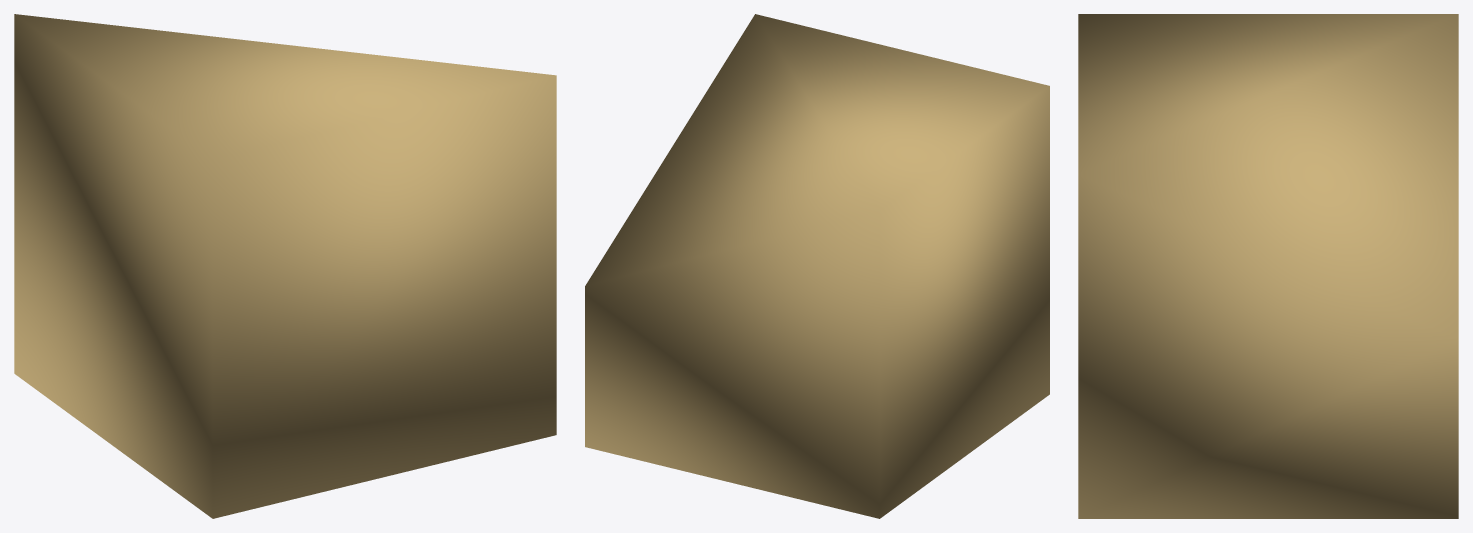
Rendered from asteroid_01.dae.
3 renders of one model, left to right at view 1: azimuth 30°, elevation 25°; view 2: azimuth 150°, elevation 25°; view 3: azimuth 270°, elevation 25°, orthographic. The views are drawn at different scales.
Parts seen in each view (by area): view 1: Cube; view 2: Cube; view 3: Cube.
Boxes of the visible parts, bbox=[...] form: Cube: bbox=[14, 14, 556, 518]; Cube: bbox=[585, 14, 1049, 518]; Cube: bbox=[1078, 14, 1458, 518].
Size of the model in its own units: 2 by 2 by 2.
